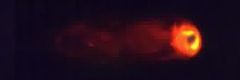keyhole: (184, 33, 198, 46)
